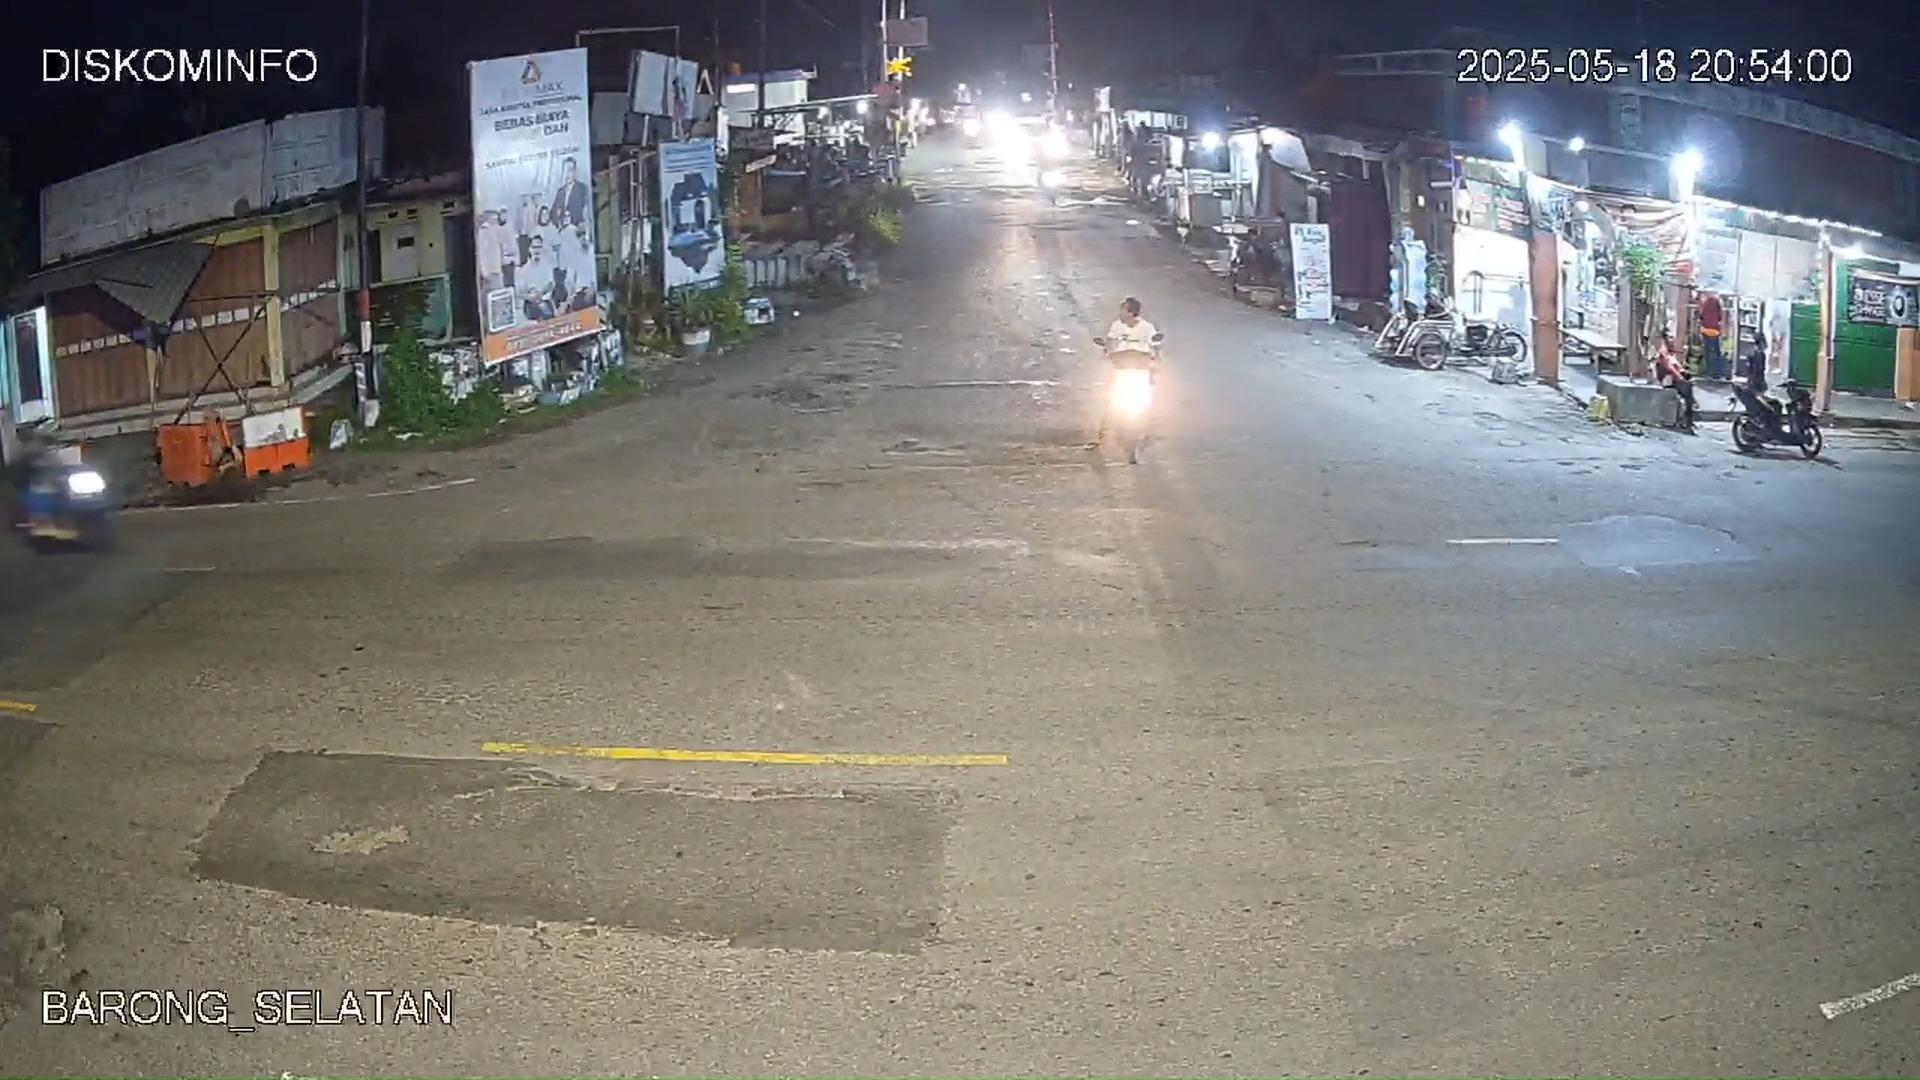Motor: (1076, 293, 1159, 469), (12, 442, 123, 553), (1729, 369, 1828, 459)
